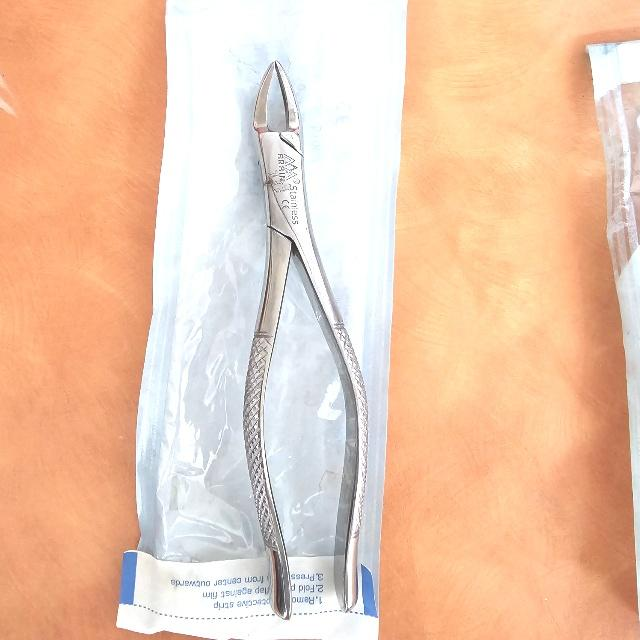forceps: (243, 62, 366, 623)
